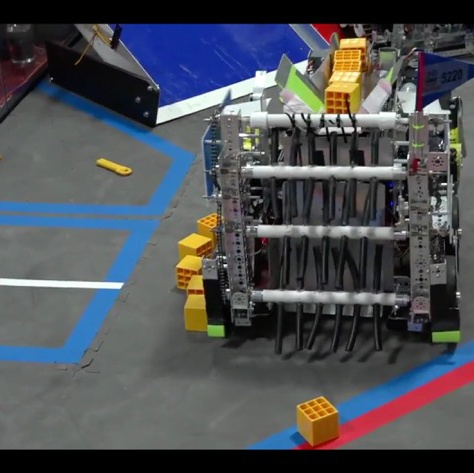robot: (193, 32, 466, 365)
